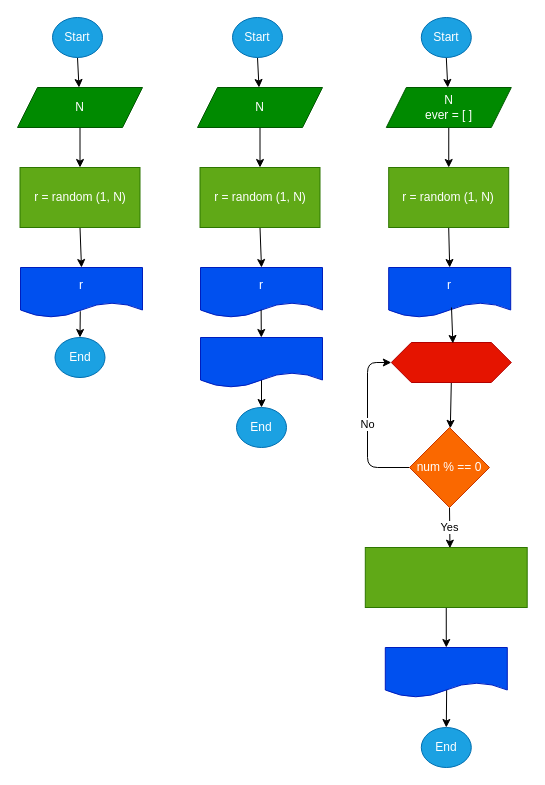
Image size: 545x785. Some labels were removed from this diagram. The shapes that lost their labels are listed below. From the top down, each one's box as (x1, y1, x2, y2) in pixels, then its label:
(200, 336, 322, 388): math.pow( r, 2 )
(390, 342, 511, 382): for num in range(1, N)
(364, 546, 527, 608): ever = ever.append( num )
(384, 646, 507, 698): ever
